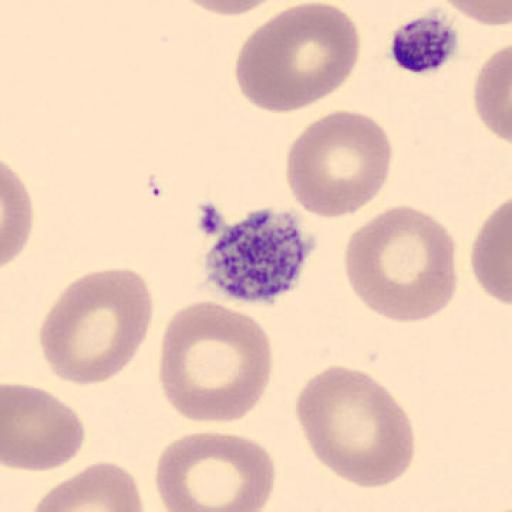Platelet: (198, 206, 318, 306), (386, 10, 462, 76)
RBC: (294, 363, 416, 492), (158, 298, 274, 428), (234, 0, 362, 114), (37, 266, 155, 386), (343, 202, 458, 324), (284, 108, 394, 218), (154, 430, 277, 512), (2, 382, 86, 473), (27, 460, 145, 512), (471, 194, 512, 308), (472, 42, 512, 146), (2, 160, 34, 267), (172, 0, 287, 18), (441, 0, 512, 27)
